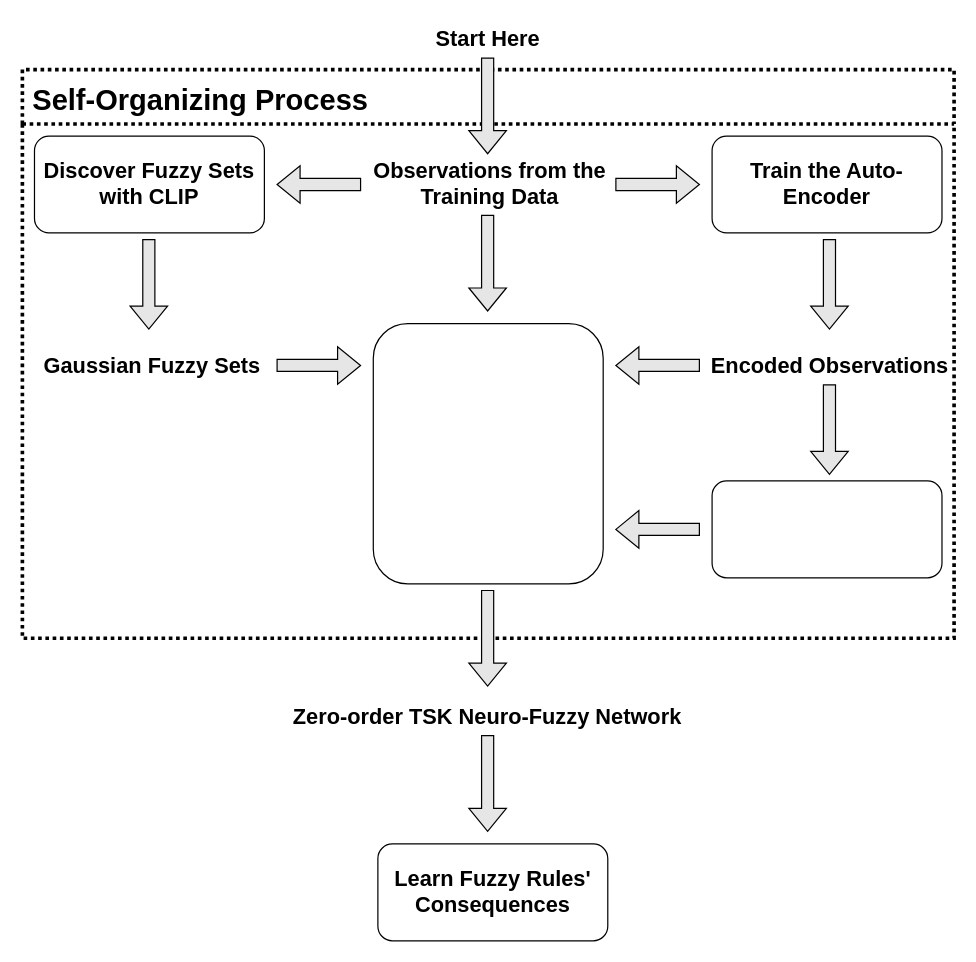
Image size: 976x962. Some labels were removed from this diagram. The shapes that lost their labels are listed below. From the top down, each one's centre as x and y in pixels, then its label:
At pixel 487 453: "Create Fuzzy Logic Rules with Wang-Mendel (for loop inside of Algorithm 1)".
At pixel 826 529: "Discover Latent Fuzzy Sets with CLIP".
